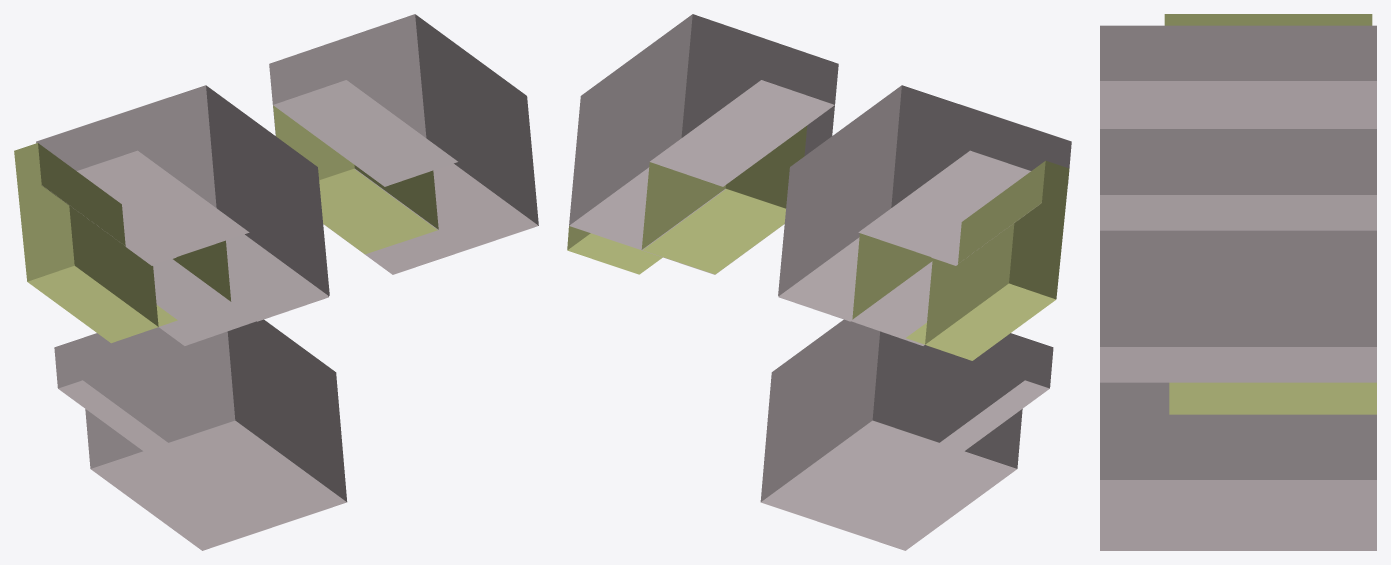
3 views of the same model, side by side, from view 1: azimuth 30°, elevation 25°; view 2: azimuth 150°, elevation 25°; view 3: azimuth 270°, elevation 25° (orthographic). The views are drawn at different scales.
Visible parts, largest first — view 1: 0_2_3_3_3_1_0_1_3_3; view 2: 0_2_3_3_3_1_0_1_3_3; view 3: 0_2_3_3_3_1_0_1_3_3.
Boxes of the visible parts, x1=… form: 0_2_3_3_3_1_0_1_3_3: x1=14, y1=14, x2=538, y2=550; 0_2_3_3_3_1_0_1_3_3: x1=567, y1=14, x2=1071, y2=550; 0_2_3_3_3_1_0_1_3_3: x1=1100, y1=14, x2=1376, y2=550.
Size of the model in its own units: 25.78 by 22.22 by 12.
